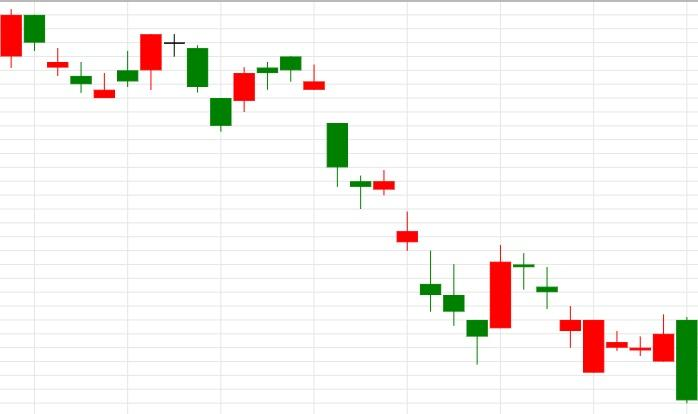evening_star_fall: (94, 33, 209, 99)
